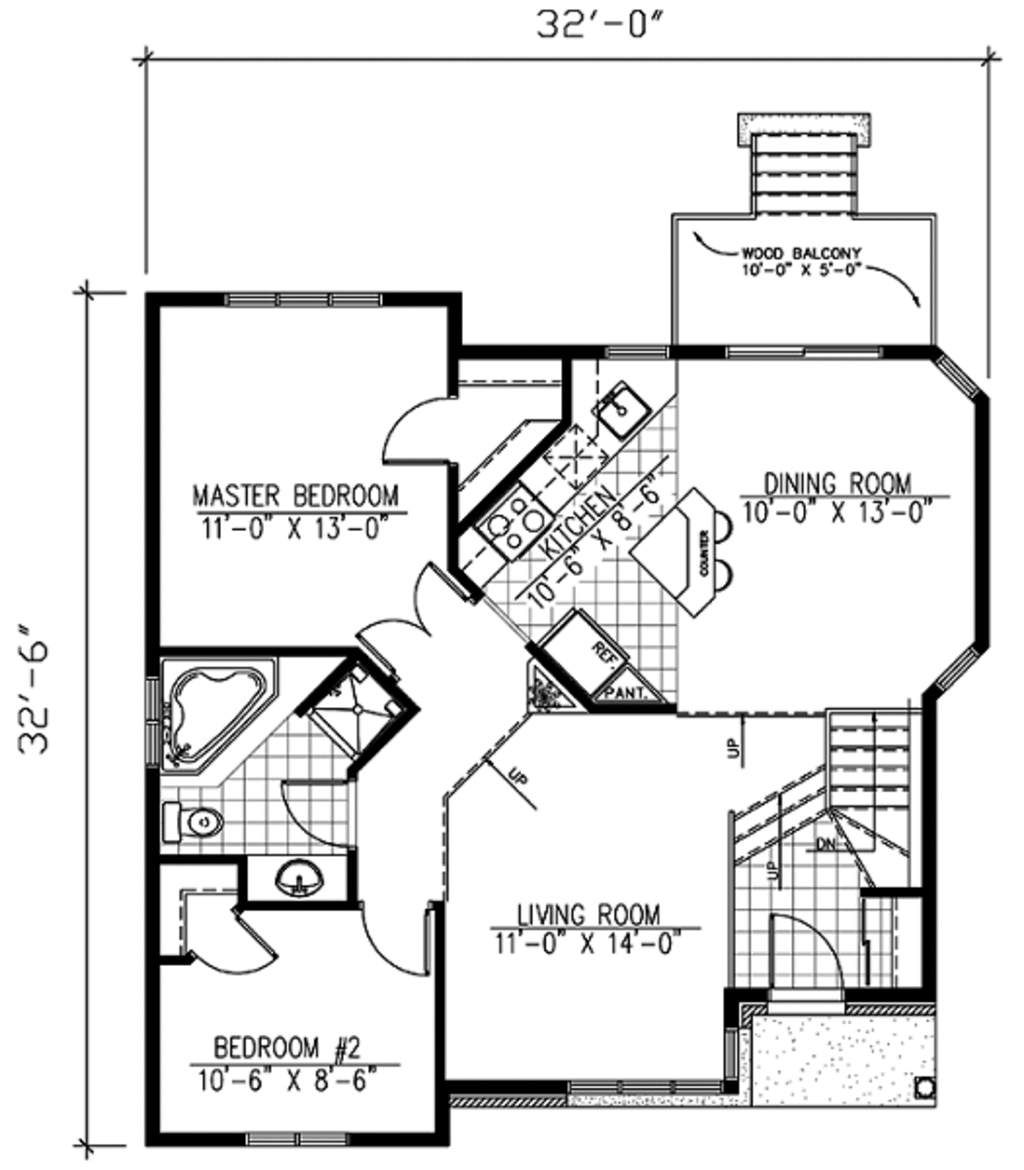door: (347, 549, 462, 669), (747, 906, 857, 1009), (267, 773, 358, 858), (377, 384, 460, 477), (353, 893, 437, 984), (180, 908, 282, 980)
kitchen_bar: (633, 488, 758, 633)
large_sink: (153, 788, 237, 857)
small_sink: (247, 846, 338, 898)
stairs: (711, 708, 938, 891)
window: (226, 280, 384, 311), (569, 1073, 729, 1098), (229, 1122, 358, 1153), (717, 338, 887, 360), (927, 340, 984, 402), (144, 677, 177, 777), (611, 342, 680, 366)
